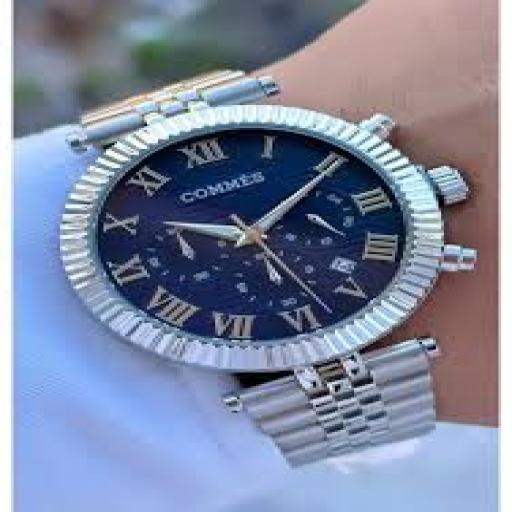KolSaati: (50, 43, 467, 453)
